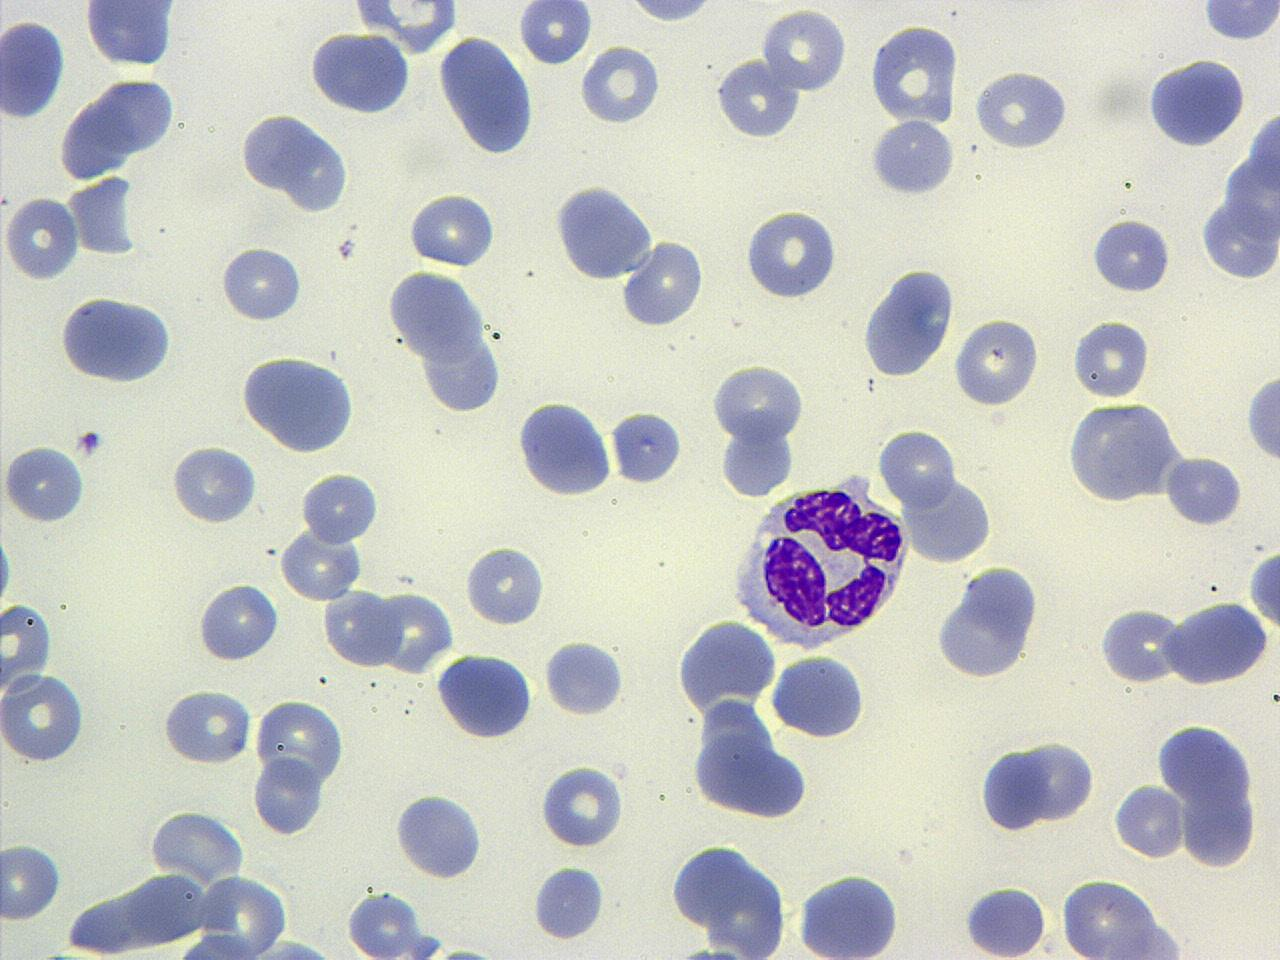Platelets: (537, 762, 628, 850), (959, 880, 1049, 958), (1069, 317, 1151, 402), (463, 543, 546, 626), (344, 888, 439, 958), (716, 419, 796, 498), (1198, 2, 1280, 44), (0, 528, 16, 610), (434, 942, 498, 960), (76, 427, 104, 458), (680, 942, 721, 960), (337, 236, 358, 260)
RBC: (722, 0, 1268, 442), (673, 614, 780, 716), (515, 394, 617, 498), (741, 202, 840, 304), (1059, 874, 1173, 960), (0, 659, 90, 767), (867, 21, 960, 124), (1156, 717, 1258, 806), (949, 314, 1043, 408), (972, 66, 1074, 151), (252, 698, 346, 790), (192, 872, 292, 958), (708, 53, 804, 142), (708, 360, 808, 444), (620, 234, 704, 331), (760, 5, 848, 96), (536, 761, 626, 849), (145, 807, 249, 883), (166, 442, 258, 527), (160, 684, 253, 767), (196, 577, 281, 665), (404, 189, 498, 268), (1, 442, 89, 526), (378, 586, 458, 678), (577, 42, 663, 127), (3, 191, 81, 284), (1094, 605, 1182, 687), (877, 424, 959, 511), (462, 543, 546, 627), (280, 522, 366, 604), (218, 242, 305, 323), (319, 588, 404, 670), (1068, 316, 1150, 401), (1179, 785, 1259, 871), (82, 0, 178, 70), (959, 882, 1047, 958), (345, 0, 460, 57), (609, 408, 687, 488), (300, 469, 380, 546), (1110, 779, 1186, 860), (1163, 453, 1243, 529), (252, 755, 324, 836), (3, 598, 58, 698), (1, 840, 64, 924), (517, 1, 594, 67), (1250, 540, 1280, 640), (617, 0, 719, 29)
WBC: (729, 470, 913, 654), (62, 861, 298, 960), (380, 260, 516, 424), (877, 422, 1000, 564), (1193, 92, 1280, 290), (688, 698, 816, 823), (665, 837, 794, 959), (0, 612, 96, 772), (54, 74, 182, 183), (930, 560, 1044, 682), (1064, 398, 1188, 507), (436, 31, 538, 159), (234, 108, 354, 215), (238, 350, 360, 455), (57, 290, 180, 388), (860, 262, 960, 382), (1055, 875, 1191, 959), (790, 866, 908, 960), (514, 396, 616, 502), (548, 180, 654, 282), (1159, 597, 1275, 687), (1142, 56, 1250, 150), (678, 616, 779, 716), (740, 202, 840, 302), (434, 648, 538, 742), (868, 20, 960, 126), (305, 29, 413, 116), (768, 649, 870, 741), (971, 64, 1075, 152), (950, 314, 1045, 410), (1153, 721, 1257, 807), (390, 790, 486, 883), (710, 55, 804, 144), (620, 238, 706, 330), (168, 442, 260, 528), (709, 363, 806, 444), (865, 117, 959, 199), (342, 886, 446, 960), (406, 191, 499, 272), (2, 442, 90, 527), (195, 578, 283, 663), (1, 13, 69, 122), (1088, 215, 1176, 296), (1020, 732, 1096, 824), (542, 637, 628, 718), (962, 880, 1049, 959), (528, 860, 608, 943), (717, 417, 796, 501), (82, 1, 181, 68), (977, 742, 1048, 834), (348, 0, 461, 56), (608, 405, 684, 488), (1244, 368, 1280, 469), (1197, 0, 1280, 43), (1246, 544, 1280, 634)
